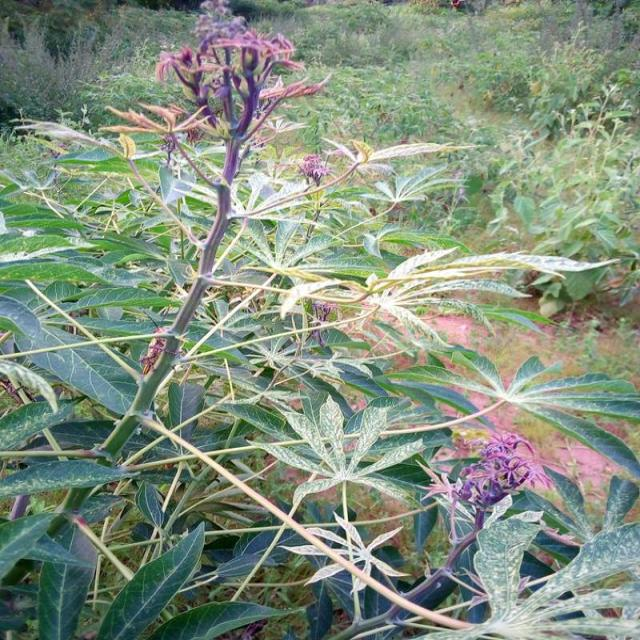cassava leaf: (0, 2, 638, 638), (95, 519, 206, 638)
